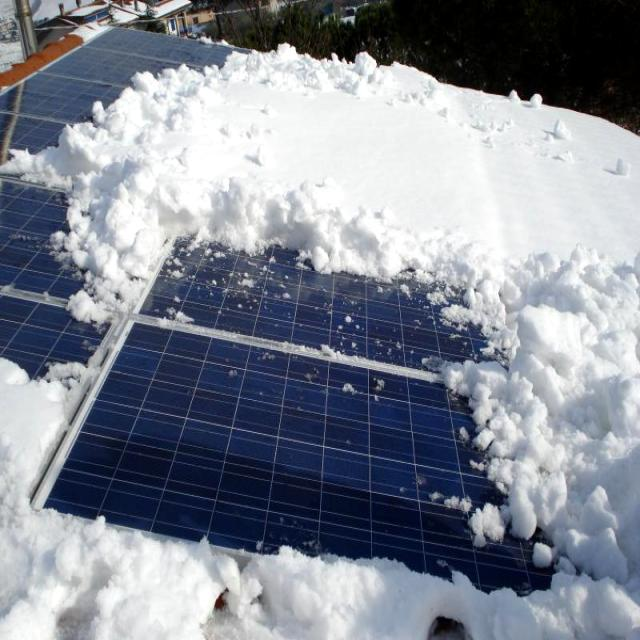panel: (1, 132, 124, 329), (461, 439, 588, 612), (429, 346, 531, 502), (238, 536, 432, 612), (7, 451, 125, 572), (136, 193, 298, 280), (315, 208, 435, 321), (43, 35, 252, 95), (460, 231, 524, 378), (4, 344, 98, 426), (137, 511, 226, 587)
